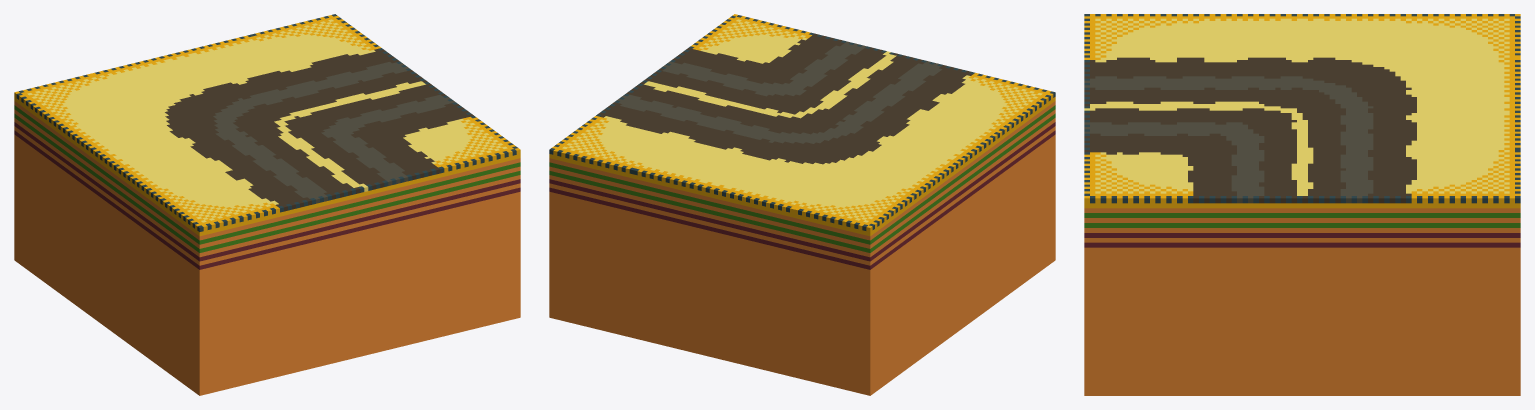
The model's file is sand_dirt_road_2_tile.obj.
The picture shows the model from 3 angles, left to right: view 1: azimuth 30°, elevation 25°; view 2: azimuth 150°, elevation 25°; view 3: azimuth 270°, elevation 25°; orthographic projection. The views are drawn at different scales.
Bounding box in the file's own units: 8 × 4 × 8.
Materials: 1 (1 with a texture image).
